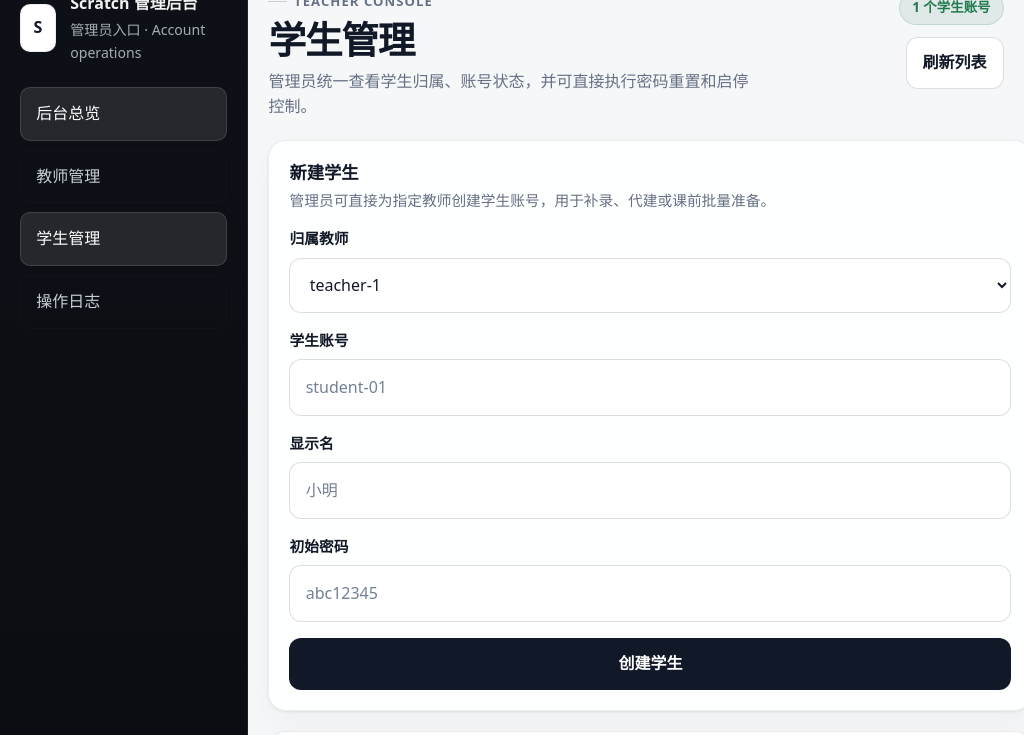
Scenario: AdminStudentsView › renders managed students and allows creating and disabling a student
Select "teacher-1" in the dropdown named "student-teacher" at x=650, y=285, box x1=290 y1=258 x2=1012 y2=312
Type "student-2" into the field named "student-username" at x=650, y=387, box x1=290 y1=359 x2=1012 y2=416
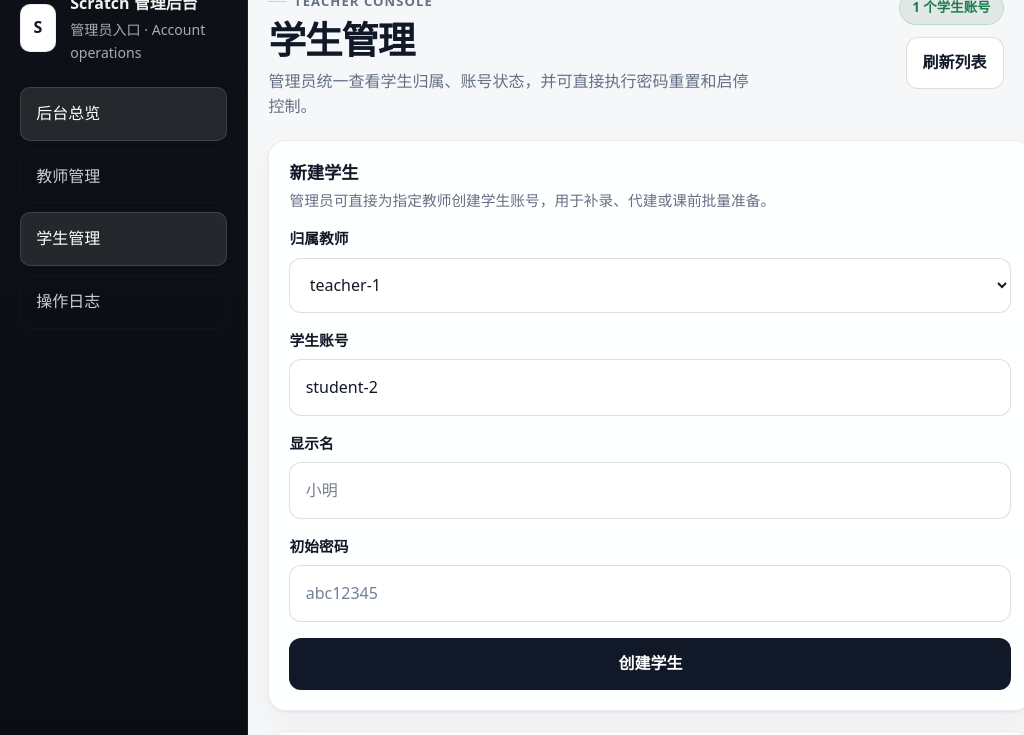
Type "小绿" into the field named "student-display-name" at x=650, y=490, box x1=290 y1=462 x2=1012 y2=519
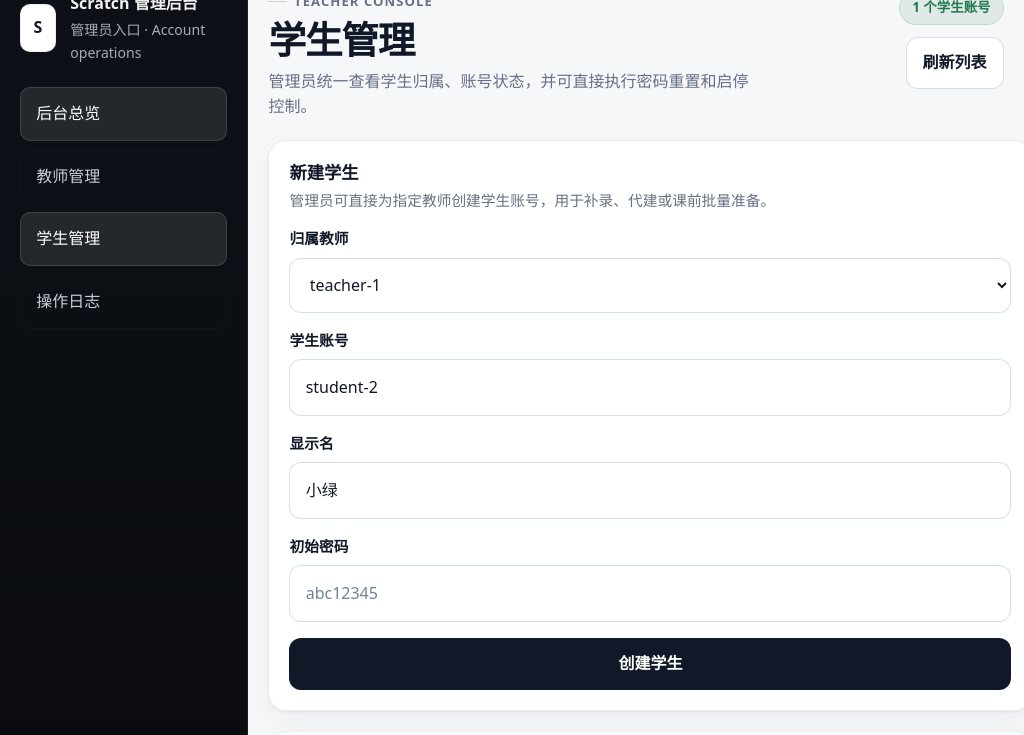
Type "stud1234" into the password field named "student-password" at x=650, y=594, box x1=290 y1=566 x2=1012 y2=622
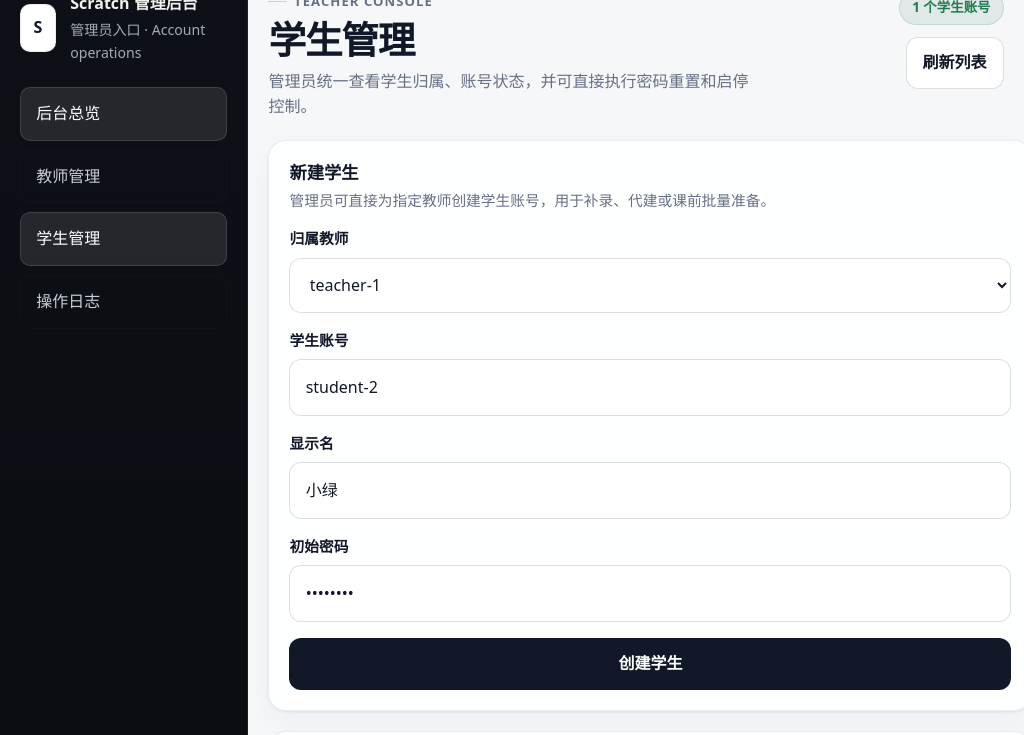
Submit the form with test id "create-student-form", box x1=290 y1=227 x2=1012 y2=690
(page scrolled)
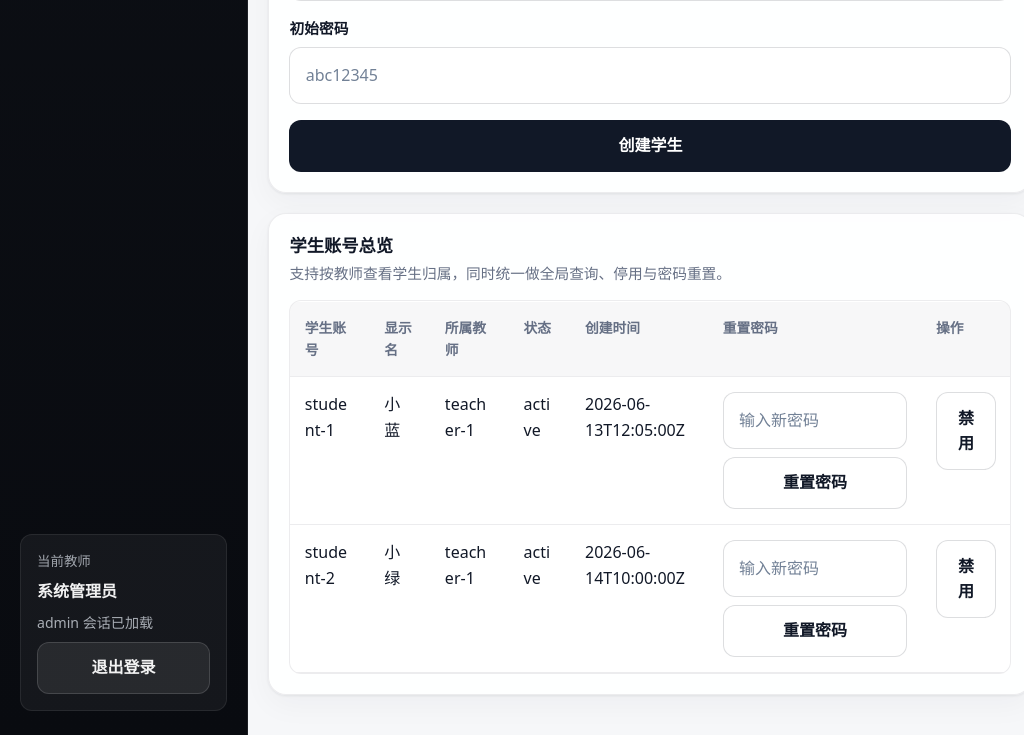
Expected: the text "student-2" is shown, x1=290 y1=525 x2=370 y2=673
Click the button with test id "student-disable-10" at x=966, y=431, box x1=936 y1=392 x2=996 y2=470
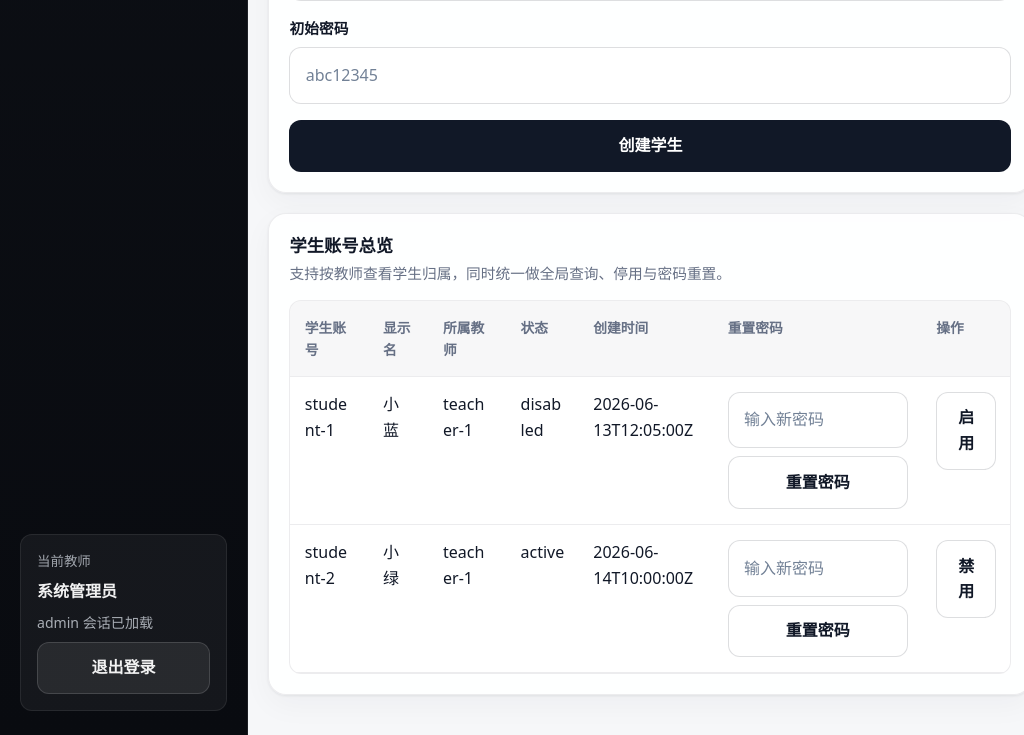
Expected: the text "disabled" is shown, x1=506 y1=376 x2=579 y2=525
